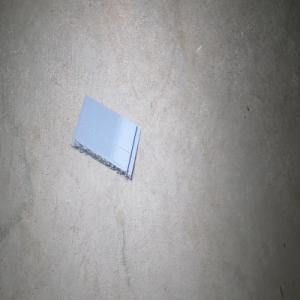PlasticPart: (72, 94, 141, 180)
